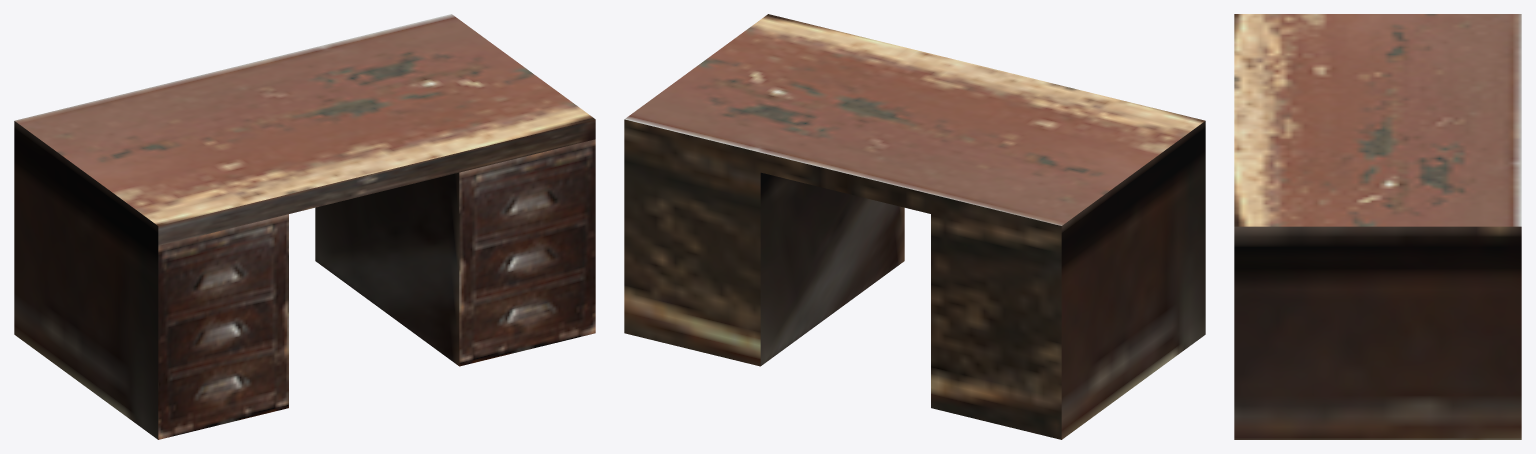
File: computer_desk.FBX
3 views of the same model, side by side, from view 1: azimuth 30°, elevation 25°; view 2: azimuth 150°, elevation 25°; view 3: azimuth 270°, elevation 25° (orthographic).
Parts seen in each view (by area): view 1: computer_desk; view 2: computer_desk; view 3: computer_desk.
Part boxes in pixels (x1,y1,x2,y2): computer_desk: [14, 14, 595, 439]; computer_desk: [624, 14, 1205, 439]; computer_desk: [1234, 14, 1521, 439].
Size of the model in its own units: 58.28 by 27.23 by 33.22.
